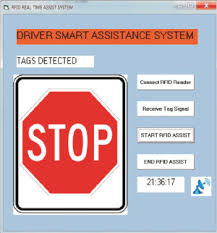SS: (21, 90, 119, 198)
